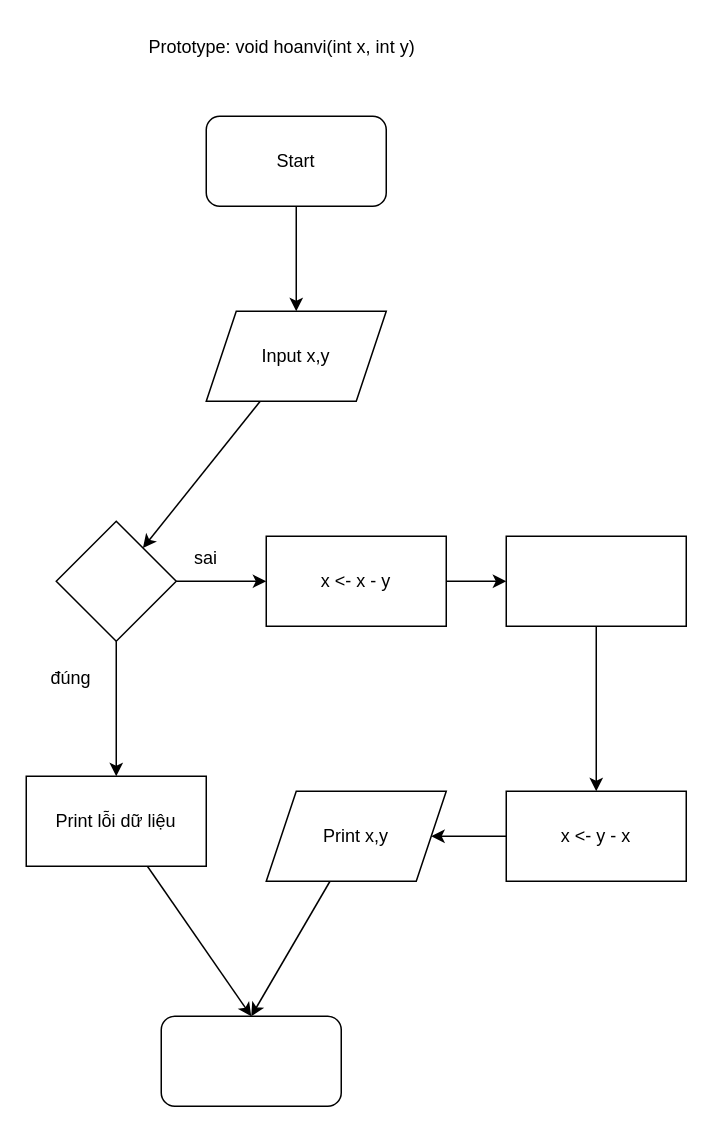
Some shapes in this 713 by 1133 pixel diagram are drawn without their labels. The box of each missing label's shape, as (x1, y1, x2, y2) in pixels:
a < 0 b < 0: (55, 520, 176, 641)
Stop: (160, 1015, 341, 1106)
y <- x + y: (505, 535, 686, 626)
